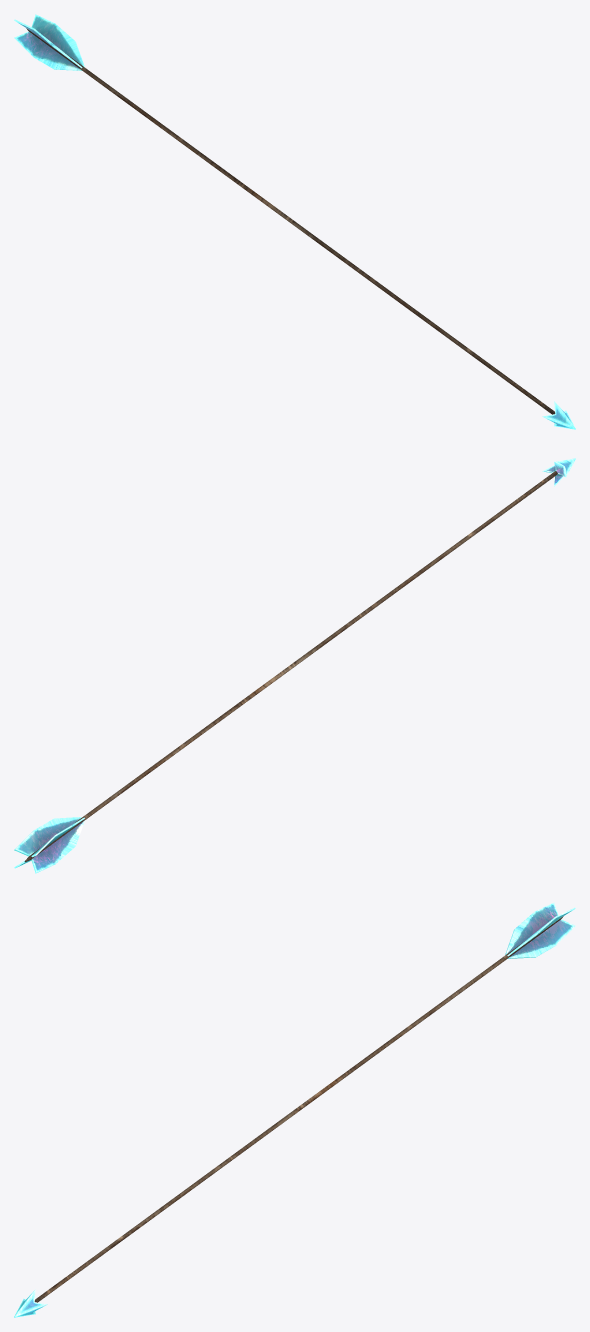
Rendered from M_Ulysses_Bow_Arrow.fbx.
3 views of the same model, one above another, from view 1: azimuth 30°, elevation 25°; view 2: azimuth 150°, elevation 25°; view 3: azimuth 330°, elevation 25° (orthographic).
Parts seen in each view (by area): view 1: M_Ulysses_Arrow; view 2: M_Ulysses_Arrow; view 3: M_Ulysses_Arrow.
Part boxes in pixels (x1=…): M_Ulysses_Arrow: x1=14, y1=14, x2=575, y2=429; M_Ulysses_Arrow: x1=14, y1=458, x2=575, y2=873; M_Ulysses_Arrow: x1=14, y1=902, x2=575, y2=1317.
Bounding box in the file's own units: 0.1768 × 0.2068 × 7.
2 materials, 2 textured.
